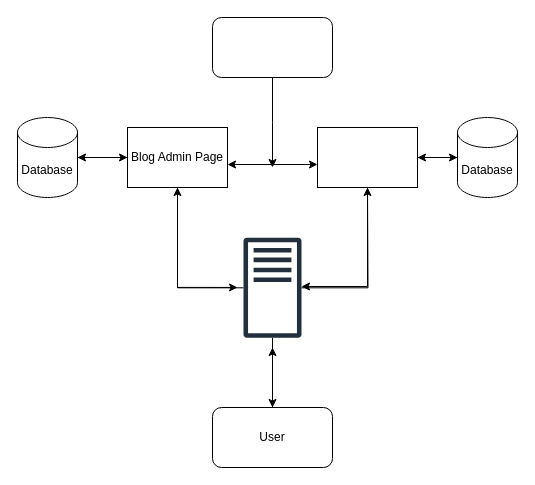
The diagram is 535 pixels wide and 485 high, and some of its shapes have lost their labels. Each missing label, with the box of its shape:
Author/Admin: (212, 16, 332, 78)
Career Admin Page: (316, 126, 418, 188)
